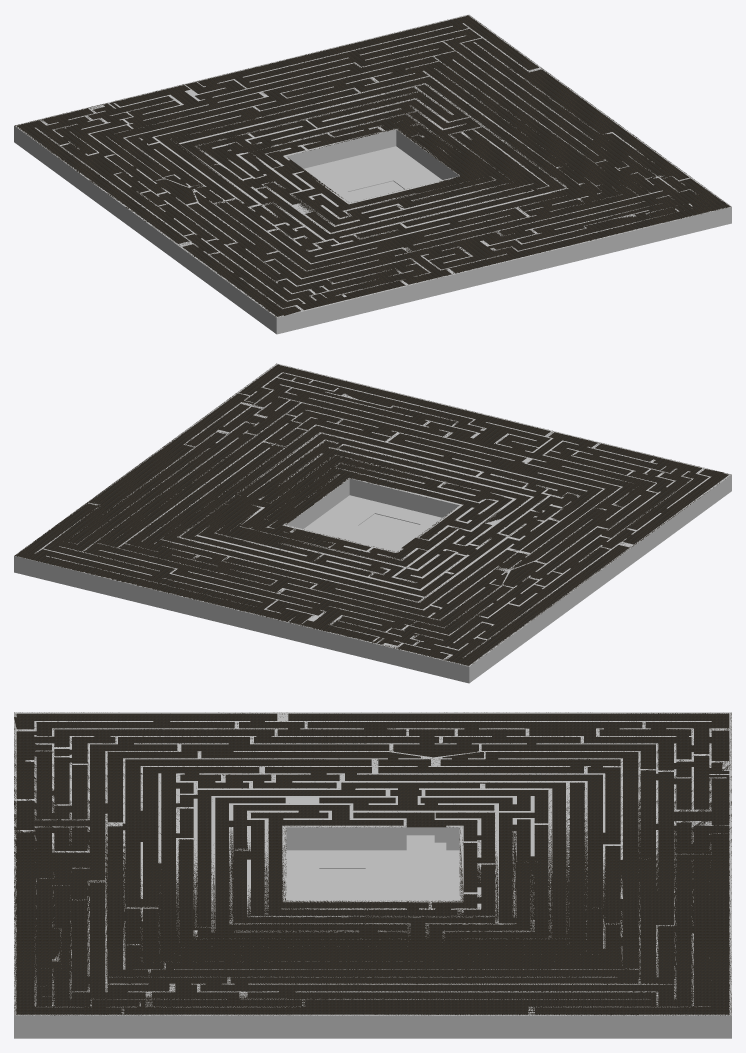
The model's file is Slendytubbies II_16_09_14__11_00_54.fbx.
3 renders of one model, top to bottom at view 1: azimuth 30°, elevation 25°; view 2: azimuth 150°, elevation 25°; view 3: azimuth 270°, elevation 25°, orthographic. The views are drawn at different scales.
Parts seen in each view (by area): view 1: Group2, Group1; view 2: Group2, Group1; view 3: Group2, Group1.
Part boxes in pixels (x1=…): Group2: x1=15, y1=15, x2=730, y2=317; Group1: x1=14, y1=14, x2=731, y2=334; Group2: x1=14, y1=363, x2=730, y2=666; Group1: x1=14, y1=363, x2=731, y2=683; Group2: x1=14, y1=712, x2=731, y2=1015; Group1: x1=14, y1=712, x2=731, y2=1038.
Bounding box in the file's own units: 144 × 7.61 × 144.
